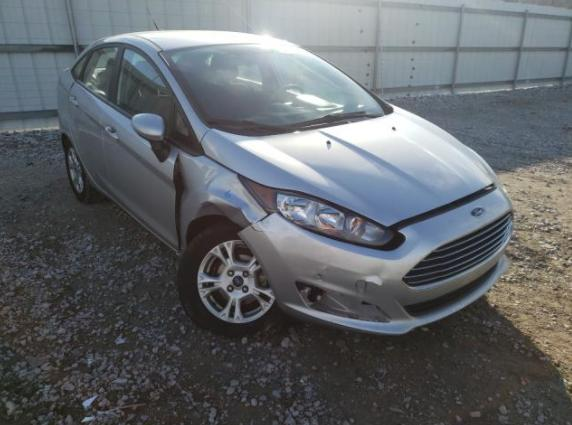Back-door: (69, 42, 123, 196)
Back-wheel: (65, 139, 105, 204)
Back-window: (81, 46, 118, 99), (73, 53, 87, 78)
Fender: (179, 149, 269, 254)
Front-bumper: (237, 183, 517, 336)
Front-door: (100, 43, 182, 250)
Front-wheel: (176, 219, 286, 339)
Front-window: (117, 48, 173, 130), (177, 108, 197, 149)
Grille: (401, 210, 513, 289)
Headlight: (239, 175, 393, 246)
Hood: (199, 104, 501, 229)
Mirror: (131, 112, 172, 164)
Quarter-panel: (55, 66, 80, 160)
Rocker-panel: (79, 153, 183, 260)
Roof: (124, 29, 291, 51)
Windshield: (158, 43, 386, 137)
